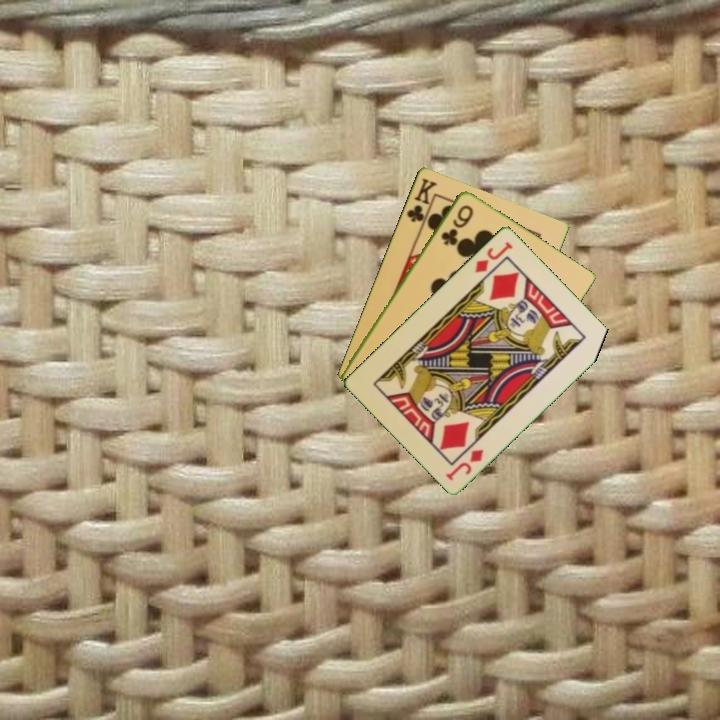9c: (437, 201, 476, 248)
Jd: (471, 237, 516, 275), (442, 445, 487, 483)
Kc: (403, 174, 440, 231)
